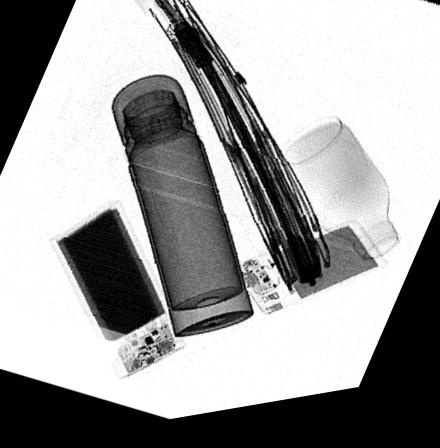Powerbank: (49, 204, 185, 384), (234, 232, 387, 324)
